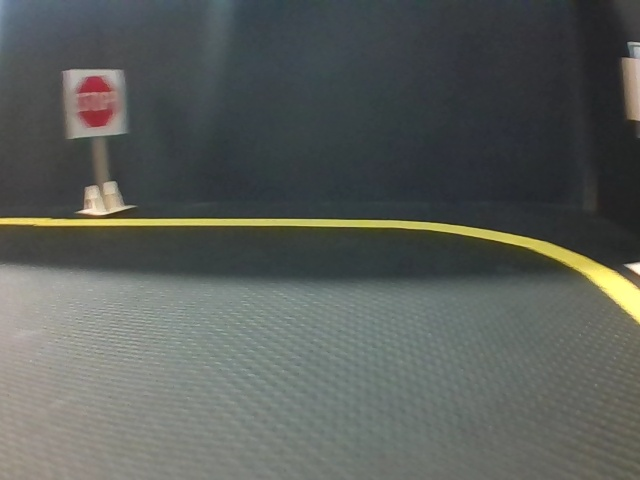stop: (62, 69, 125, 134)
